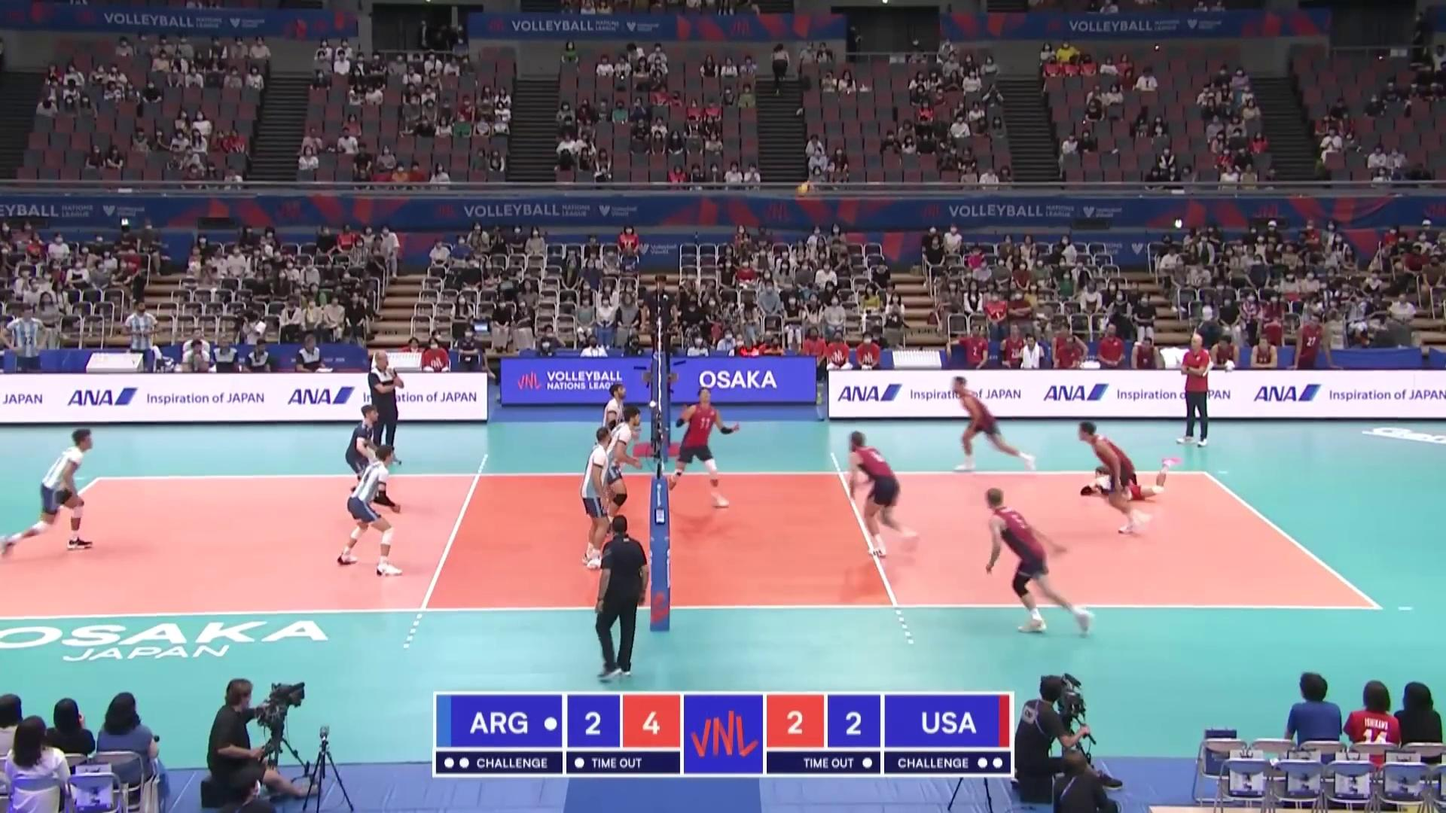player: (983, 488, 1093, 635), (3, 429, 96, 552), (846, 432, 923, 559), (665, 388, 735, 509), (336, 448, 401, 576), (1078, 422, 1150, 535), (952, 377, 1034, 471), (599, 409, 642, 538), (578, 428, 614, 569), (1080, 456, 1183, 503), (345, 405, 390, 504), (597, 383, 631, 505)
refree: (587, 523, 649, 679), (643, 274, 677, 366)
